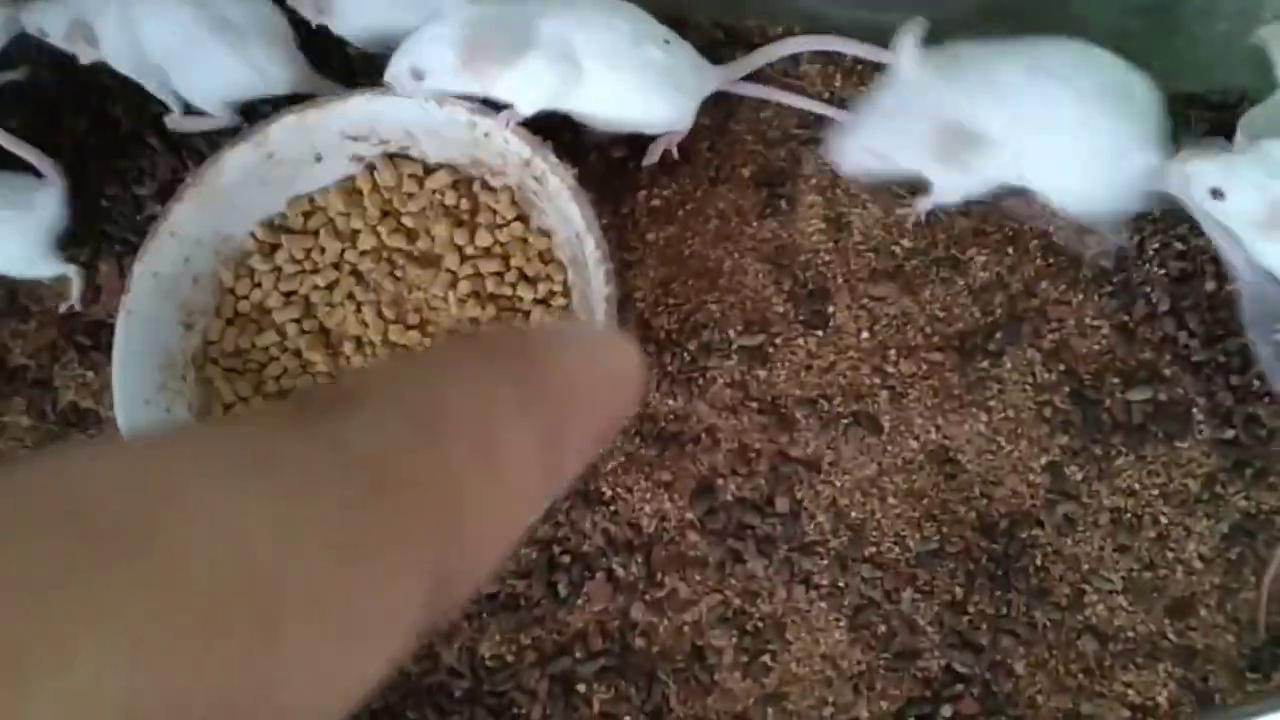rat: (385, 0, 891, 166), (820, 18, 1170, 231), (17, 0, 307, 129), (1190, 135, 1280, 283)
